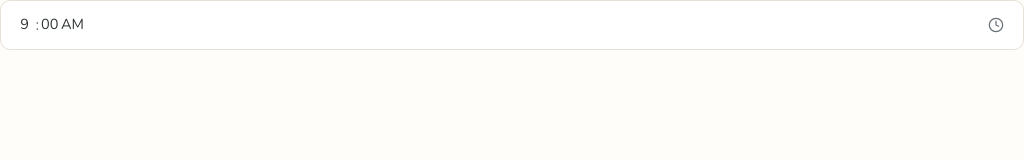
Test: TimePicker — dropdown › ArrowUp/Down on the AM/PM segment toggles the period both ways
Click the field named "Start AM/PM".
click(72, 25)  # box x1=60 y1=14 x2=84 y2=36
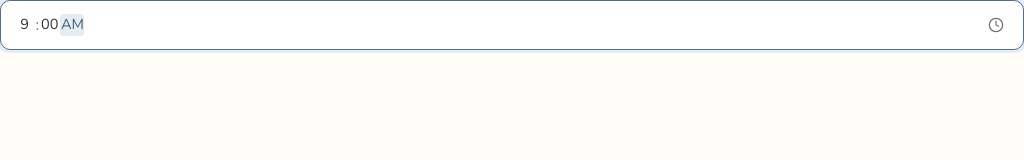
Press Arrowup
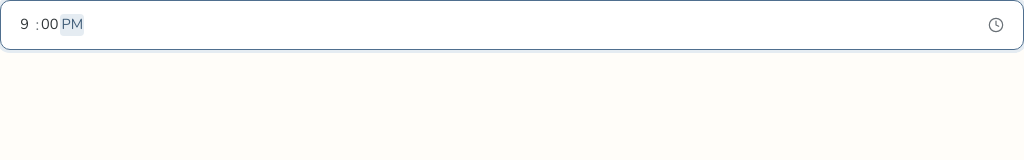
expect the field named "Start AM/PM" holds "PM": met, box x1=60 y1=14 x2=84 y2=36
Press Arrowdown
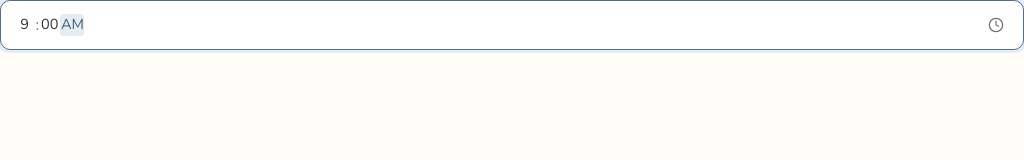
expect the field named "Start AM/PM" holds "AM": met, box x1=60 y1=14 x2=84 y2=36
